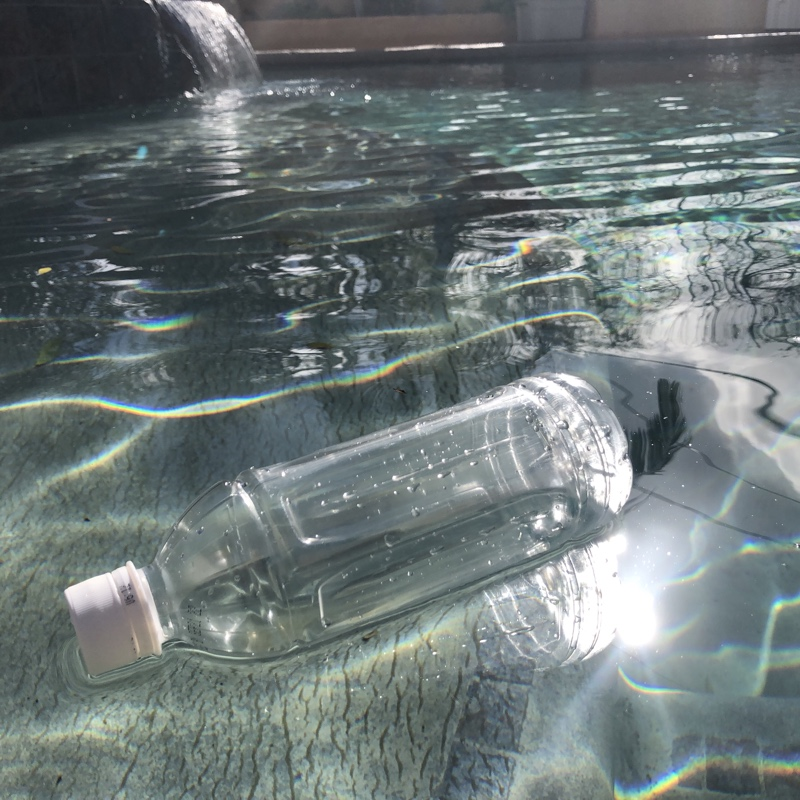Plastic Bottle: (55, 365, 640, 683)
